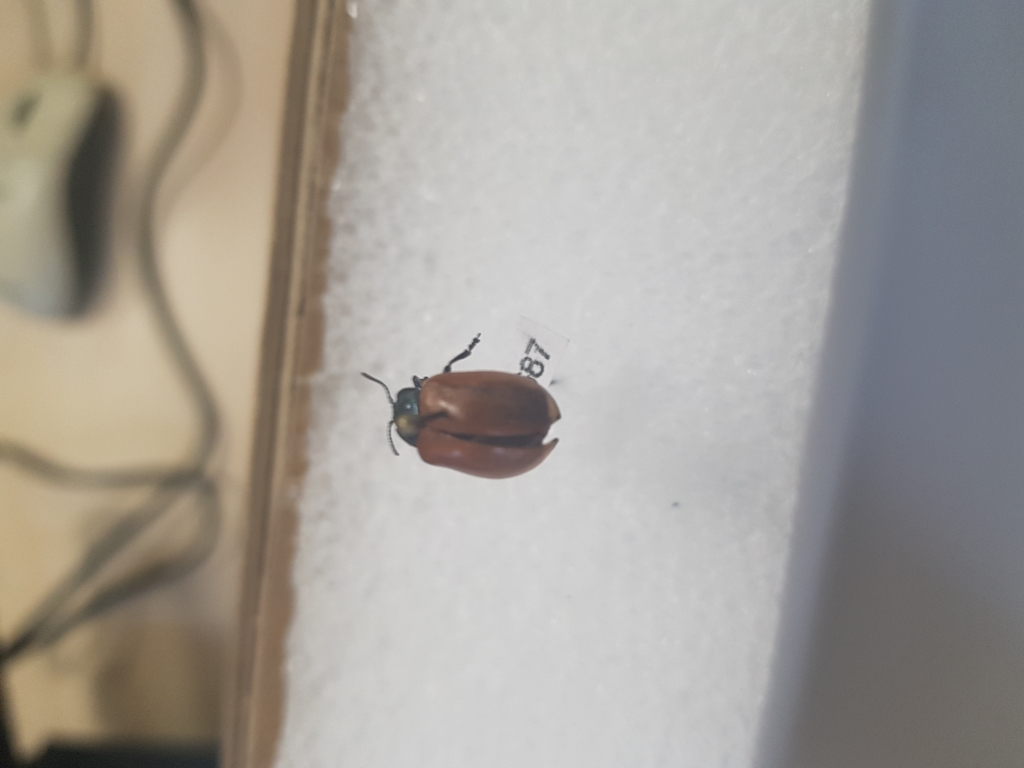Chrysomela_populi: (346, 327, 565, 482)
